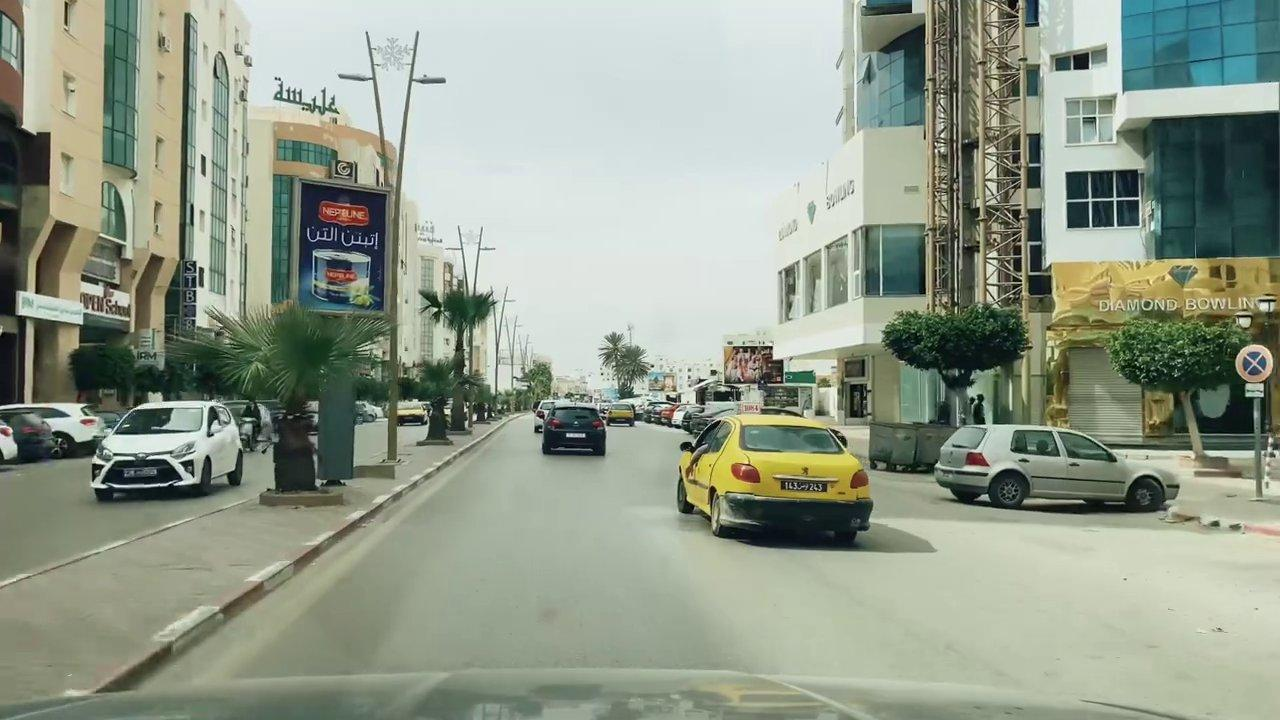no stopping: (1233, 344, 1275, 383)
